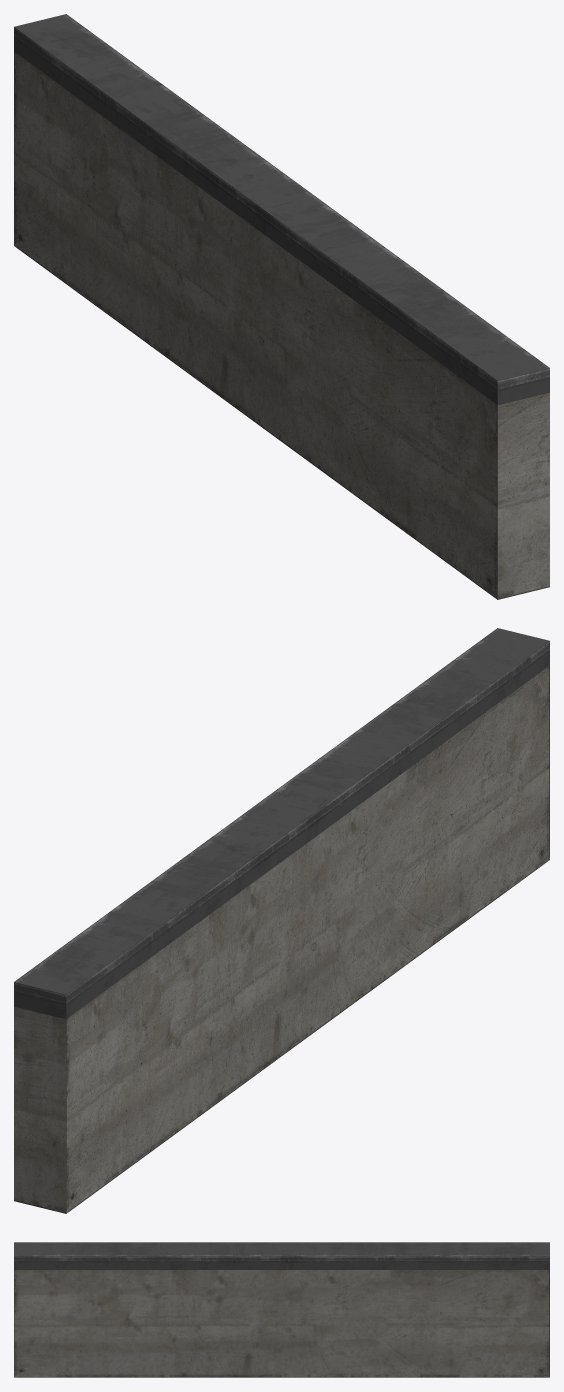
File: CP_Parapet_F_4m.fbx
The picture shows the model from 3 angles, top to bottom: view 1: azimuth 30°, elevation 25°; view 2: azimuth 150°, elevation 25°; view 3: azimuth 270°, elevation 25°; orthographic projection. The views are drawn at different scales.
Visible parts, largest first — view 1: CP_Parapet_F_4m; view 2: CP_Parapet_F_4m; view 3: CP_Parapet_F_4m.
Boxes of the visible parts, x1,y1,x2,y2 form: CP_Parapet_F_4m: (14,14,549,599); CP_Parapet_F_4m: (14,628,549,1213); CP_Parapet_F_4m: (14,1242,549,1377).
Bounding box in the file's own units: 25 × 100 × 400.
